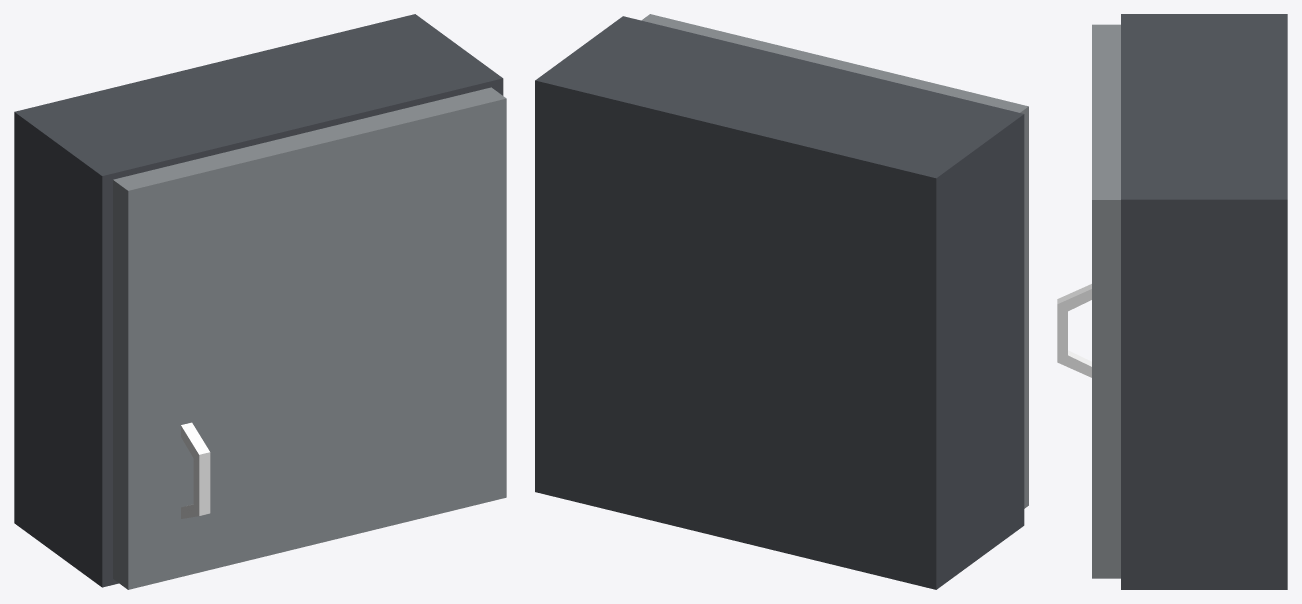
The model's file is Cupboard_5_2.fbx.
The picture shows the model from 3 angles, left to right: view 1: azimuth 30°, elevation 25°; view 2: azimuth 150°, elevation 25°; view 3: azimuth 270°, elevation 25°; orthographic projection. The views are drawn at different scales.
Visible parts, largest first — view 1: polySurface1675; view 2: polySurface1675; view 3: polySurface1675.
Part boxes in pixels (box(x1,y1,x2,y2)): polySurface1675: box(14, 14, 506, 589); polySurface1675: box(535, 14, 1028, 589); polySurface1675: box(1057, 14, 1287, 589).
Size of the model in its own units: 0.918 by 0.9 by 0.4813.
Materials: 1 (1 with a texture image).
